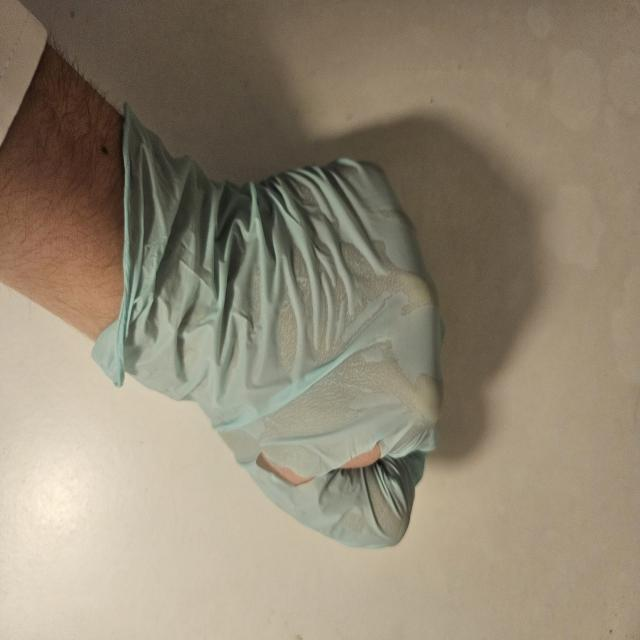gloves_damaged: (101, 98, 449, 554)
